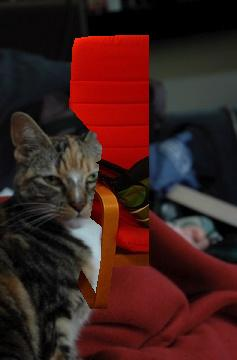tampered: (70, 36, 149, 309)
